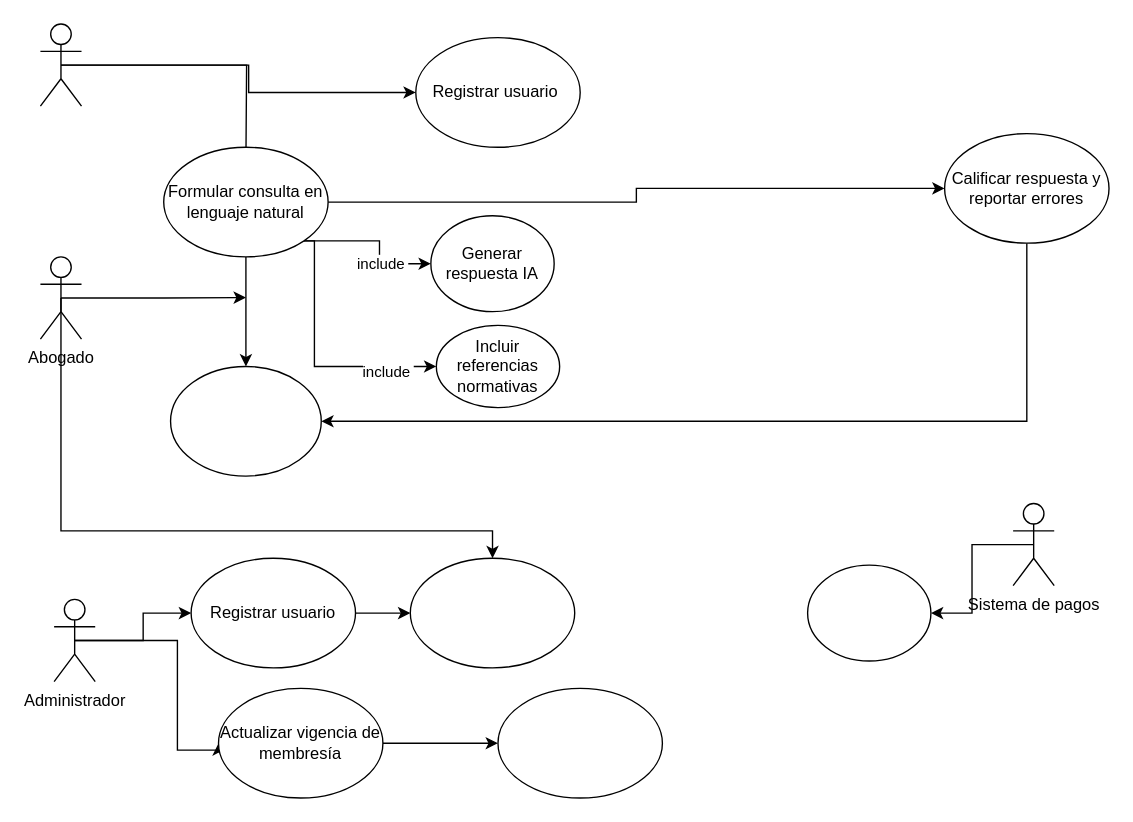
The diagram is 1133 pixels wide and 822 high, and some of its shapes have lost their labels. The shapes that lost their labels are listed below. From the top down, each one's centre as x and y in pixels, then its label:
At pixel 60 64: "Rector".
At pixel 245 420: "Asociar usuario a institución".
At pixel 492 612: "Definir tipos de membresía".
At pixel 868 612: "Registrar pago de membresía".
At pixel 579 742: "Registrar historial de consultas y respuestas".
